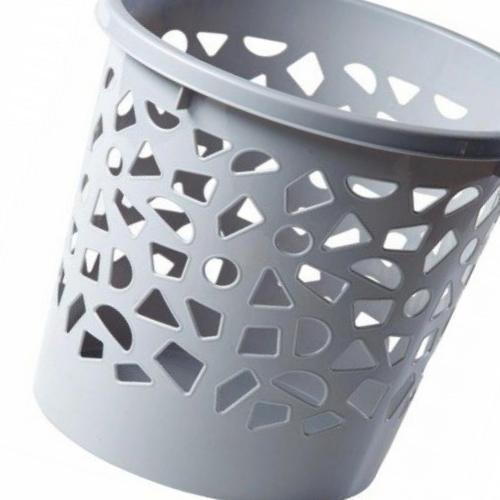Bote de Basura: (40, 0, 499, 499)
